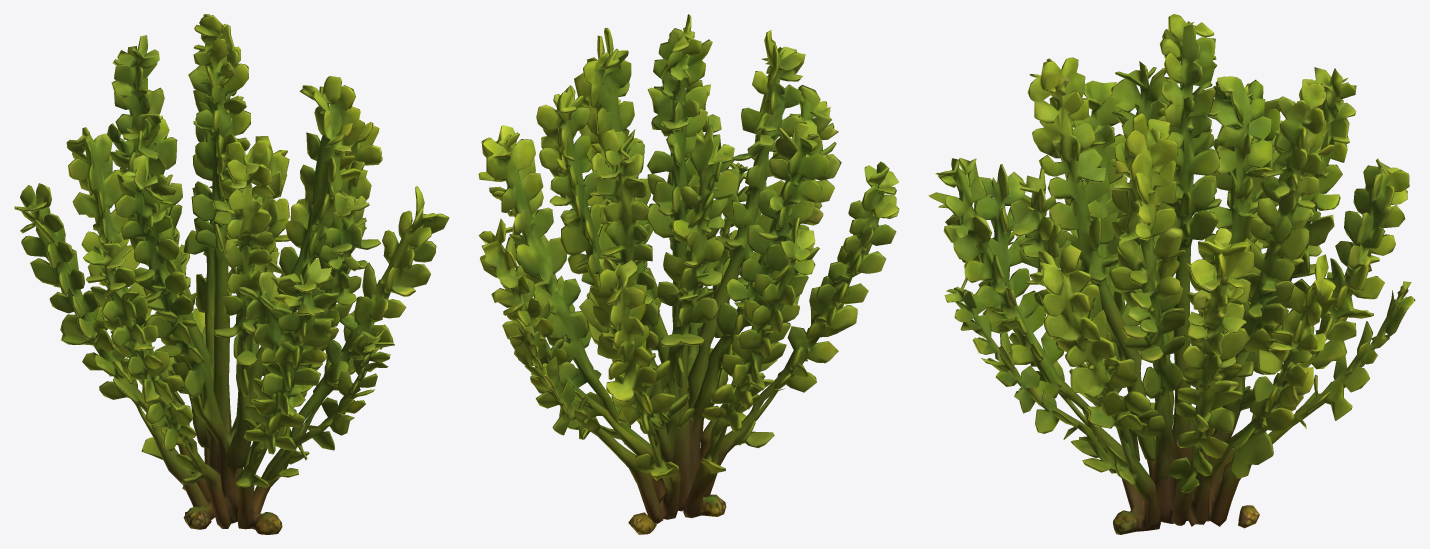
Rendered from plant_halimeda.glb.
3 views of the same model, side by side, from view 1: azimuth 30°, elevation 25°; view 2: azimuth 150°, elevation 25°; view 3: azimuth 270°, elevation 25° (orthographic). The views are drawn at different scales.
Visible parts, largest first — view 1: tripo_node_e68695e3-7a7e-4aa3-8b61-7bd241dc40ca; view 2: tripo_node_e68695e3-7a7e-4aa3-8b61-7bd241dc40ca; view 3: tripo_node_e68695e3-7a7e-4aa3-8b61-7bd241dc40ca.
Part boxes in pixels (bbox=[...]): tripo_node_e68695e3-7a7e-4aa3-8b61-7bd241dc40ca: bbox=[14, 14, 449, 534]; tripo_node_e68695e3-7a7e-4aa3-8b61-7bd241dc40ca: bbox=[478, 14, 899, 534]; tripo_node_e68695e3-7a7e-4aa3-8b61-7bd241dc40ca: bbox=[928, 14, 1415, 534].
Size of the model in its own units: 0.7599 by 1 by 0.8724.
Materials: 1 (1 with a texture image).
